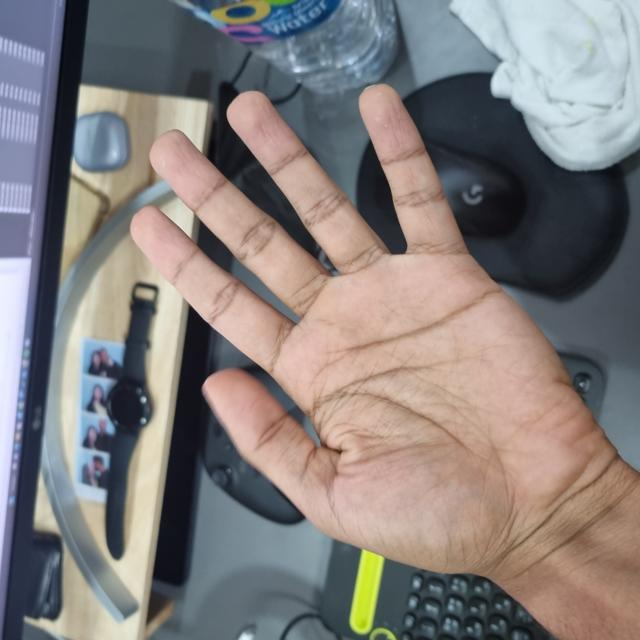Paper: (66, 128, 557, 595)
